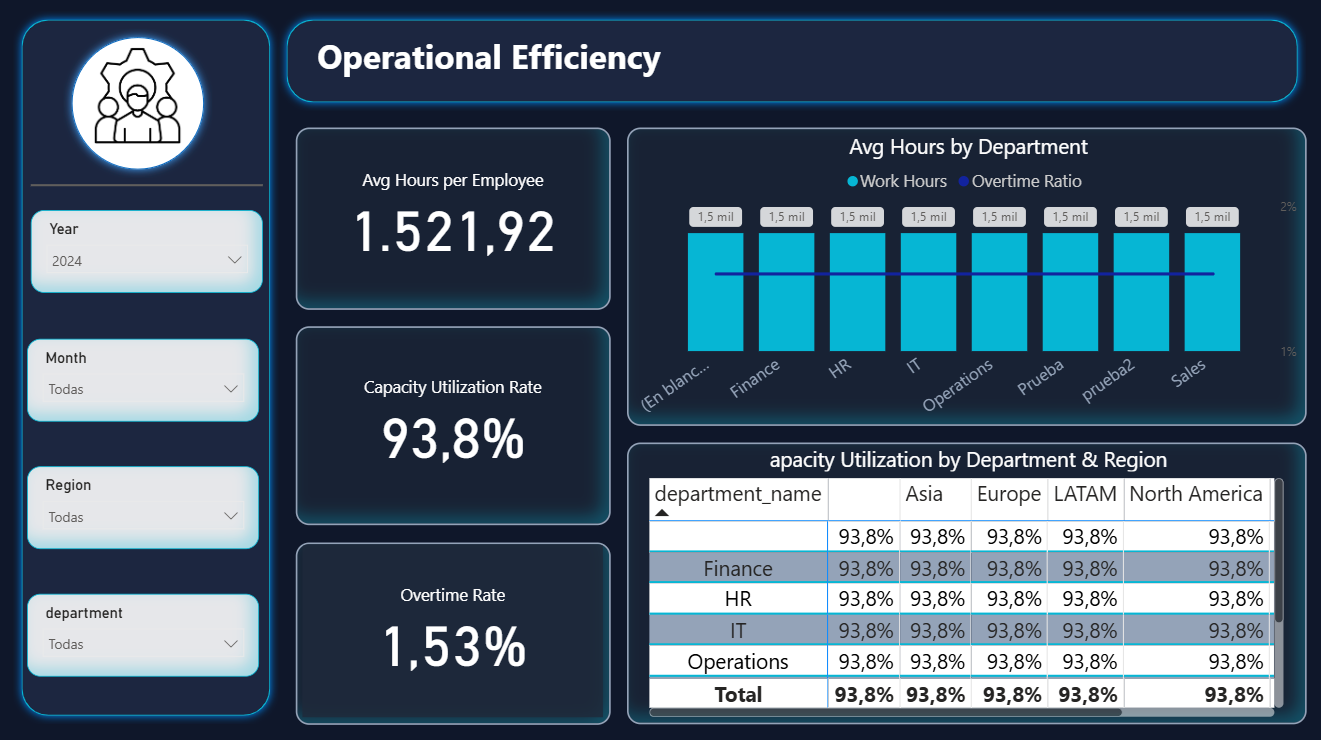

The dashboard page shown, as its layout file describes it:
{"tool":"powerbi","page":{"name":"Eficiencia operativa","canvas":[1280,720],"ordinal":1},"visuals":[{"type":"shape","box":[16,16,256,688],"z":0},{"type":"shape","box":[272,16,992,96],"z":1000},{"type":"slicer","fields":{"Values":["regions.region_name"]},"box":[28.9,454.9,224,80],"z":2000},{"type":"slicer","fields":{"Values":["departments.department_name"]},"box":[28.9,578.3,224,80],"z":3000},{"type":"slicer","fields":{"Values":["Calendario 2.Mes"]},"box":[28.9,331.4,224,80],"z":4000},{"type":"shape","box":[32,144,224,80],"z":5000},{"type":"textbox","box":[304,32,496,64],"z":6000},{"type":"cardVisual","title":"Costo total","fields":{"Data":["Metricas.% de Utilización de Capacidad"]},"box":[288,320,304,192],"z":7000},{"type":"lineClusteredColumnComboChart","title":"Avg Hours by Department","fields":{"Y":["Metricas.Horas Promedio por Empleado Real"],"Y2":["Metricas.Indice de horas extra"],"Category":["departments.department_name"]},"box":[608,128,656,288],"z":8000},{"type":"cardVisual","fields":{"Data":["Metricas.Indice de horas extra"]},"box":[288,528,304,176],"z":9000},{"type":"cardVisual","title":"Costo total","fields":{"Data":["Metricas.Productividad"]},"box":[288,128,304,176],"z":10000},{"type":"pivotTable","title":"apacity Utilization by Department & Region","fields":{"Rows":["departments.department_name"],"Values":["Metricas.% de Utilización de Capacidad"],"Columns":["regions.region_name"]},"box":[608,432,656,272],"z":11000},{"type":"group","id":"g1","title":"Grupo 1","box":[64,32,144,144],"z":12000},{"type":"shape","box":[64,32,144,144],"z":12500,"group":"g1"},{"type":"slicer","fields":{"Values":["Calendario 2.Año"]},"box":[32,208,224,80],"z":13000},{"type":"image","box":[80,40,112,112],"z":13500,"group":"g1"}]}

Visuals, with their boxes in screenshot pixels (x1, y1, x2, y2), scaled from the page's 1280x720 canvas onto the 1321x740 screenshot:
shape: 17/16/281/724
shape: 281/16/1304/115
slicer - regions.region_name: 30/468/261/550
slicer - departments.department_name: 30/594/261/677
slicer - Calendario 2.Mes: 30/341/261/423
shape: 33/148/264/230
textbox: 314/33/826/99
"Costo total" cardVisual: 297/329/611/526
"Avg Hours by Department" lineClusteredColumnComboChart: 627/132/1304/428
cardVisual - Metricas.Indice de horas extra: 297/543/611/724
"Costo total" cardVisual: 297/132/611/312
"apacity Utilization by Department & Region" pivotTable: 627/444/1304/724
"Grupo 1" group: 66/33/215/181
shape: 66/33/215/181
slicer - Calendario 2.Año: 33/214/264/296
image: 83/41/198/156
